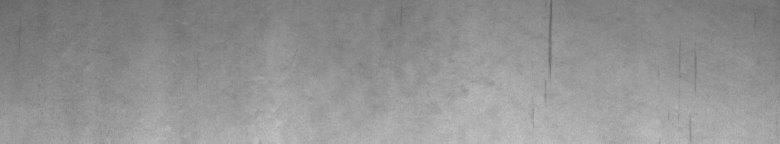ka: (463, 4, 556, 119)
